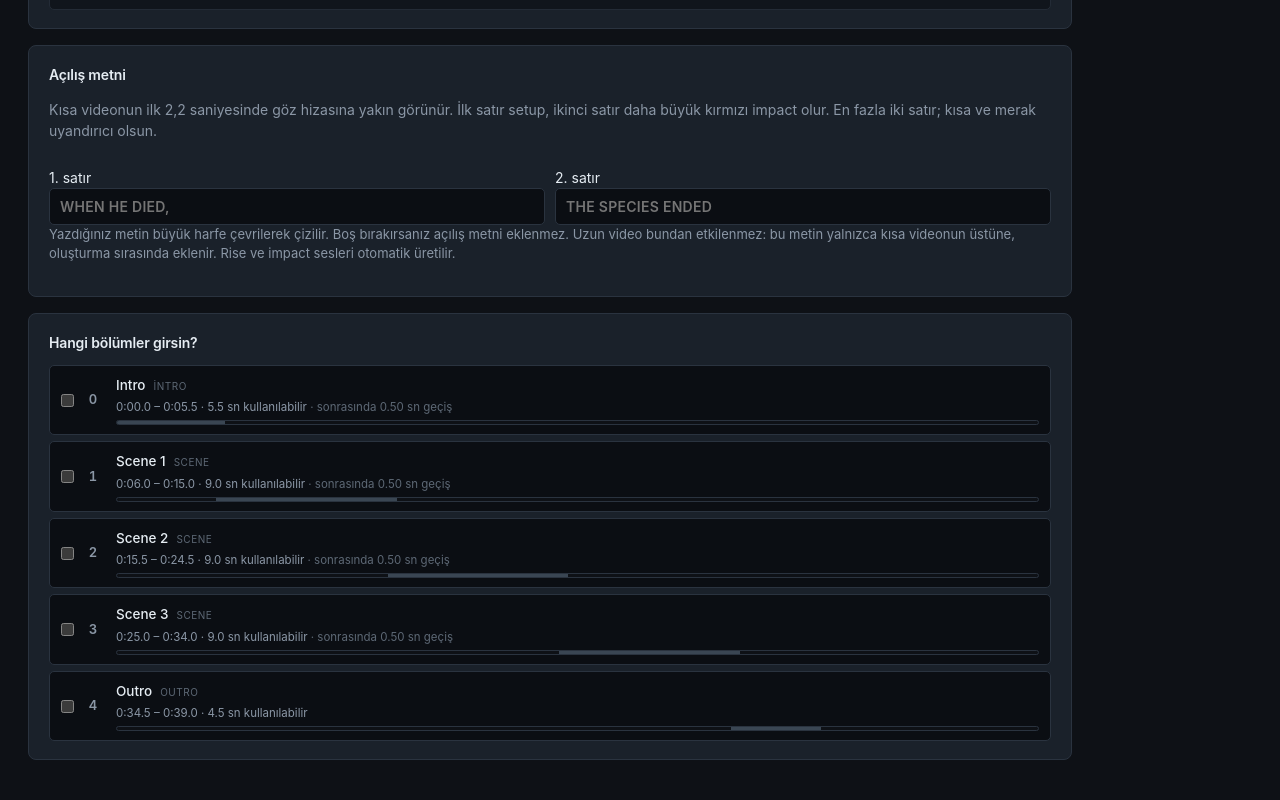
Test case: ShortsPage › shows trim fields bounded by the section safe range
The image size is (1280, 800).
(page scrolled)
Click the checkbox named "2. bölümü ekle: Scene 2".
click(68, 553)  # box x1=61 y1=546 x2=74 y2=560
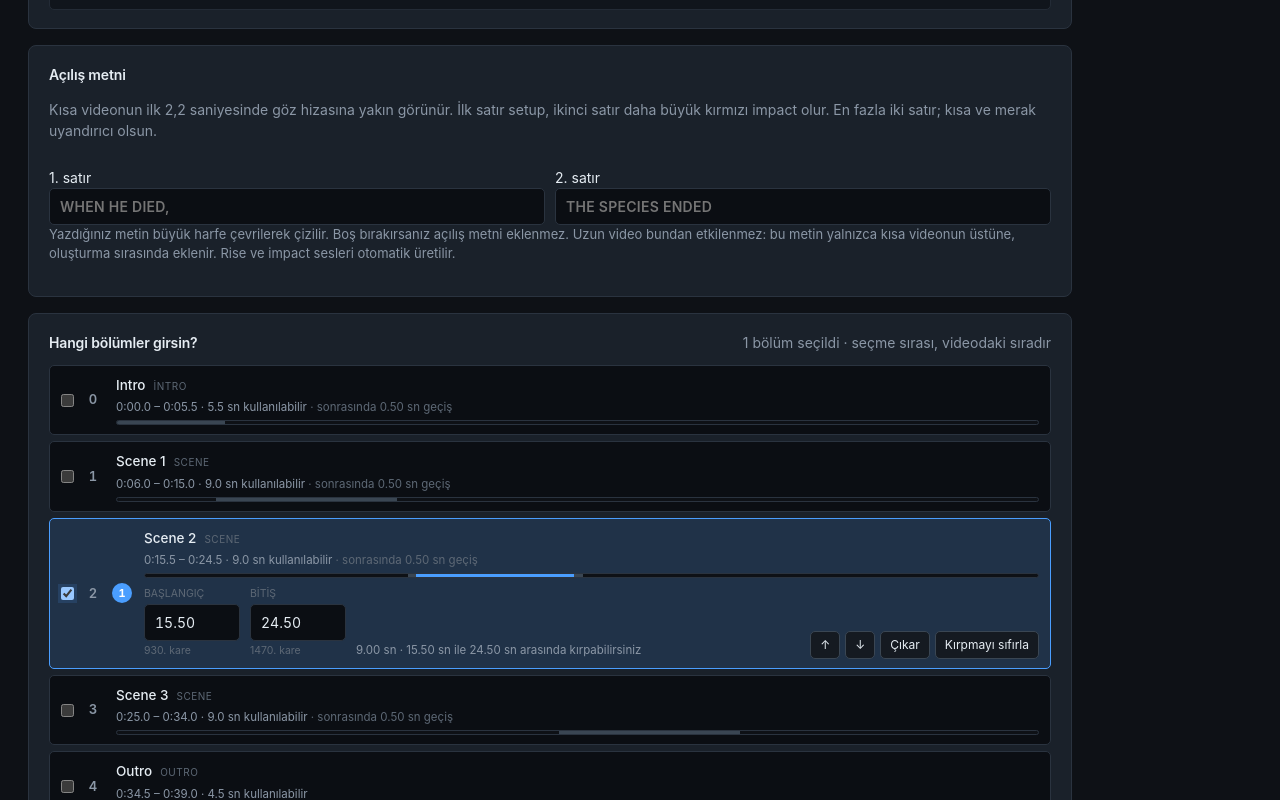
Now the number field labelled "Başlangıç" holds "15.5", box x1=144 y1=604 x2=240 y2=641
Now the number field labelled "Bitiş" holds "24.5", box x1=250 y1=604 x2=346 y2=641
Now the text "9.00 sn · 15.50 sn ile 24.50 sn arasında kırpabilirsiniz" is shown, box x1=356 y1=642 x2=641 y2=659
